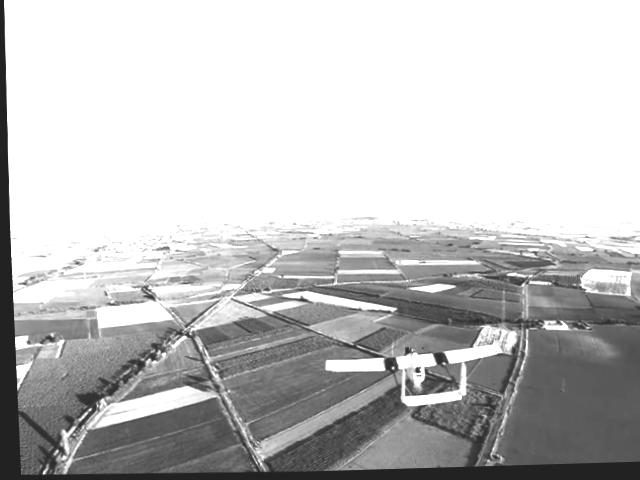hedef: (324, 325, 508, 422)
